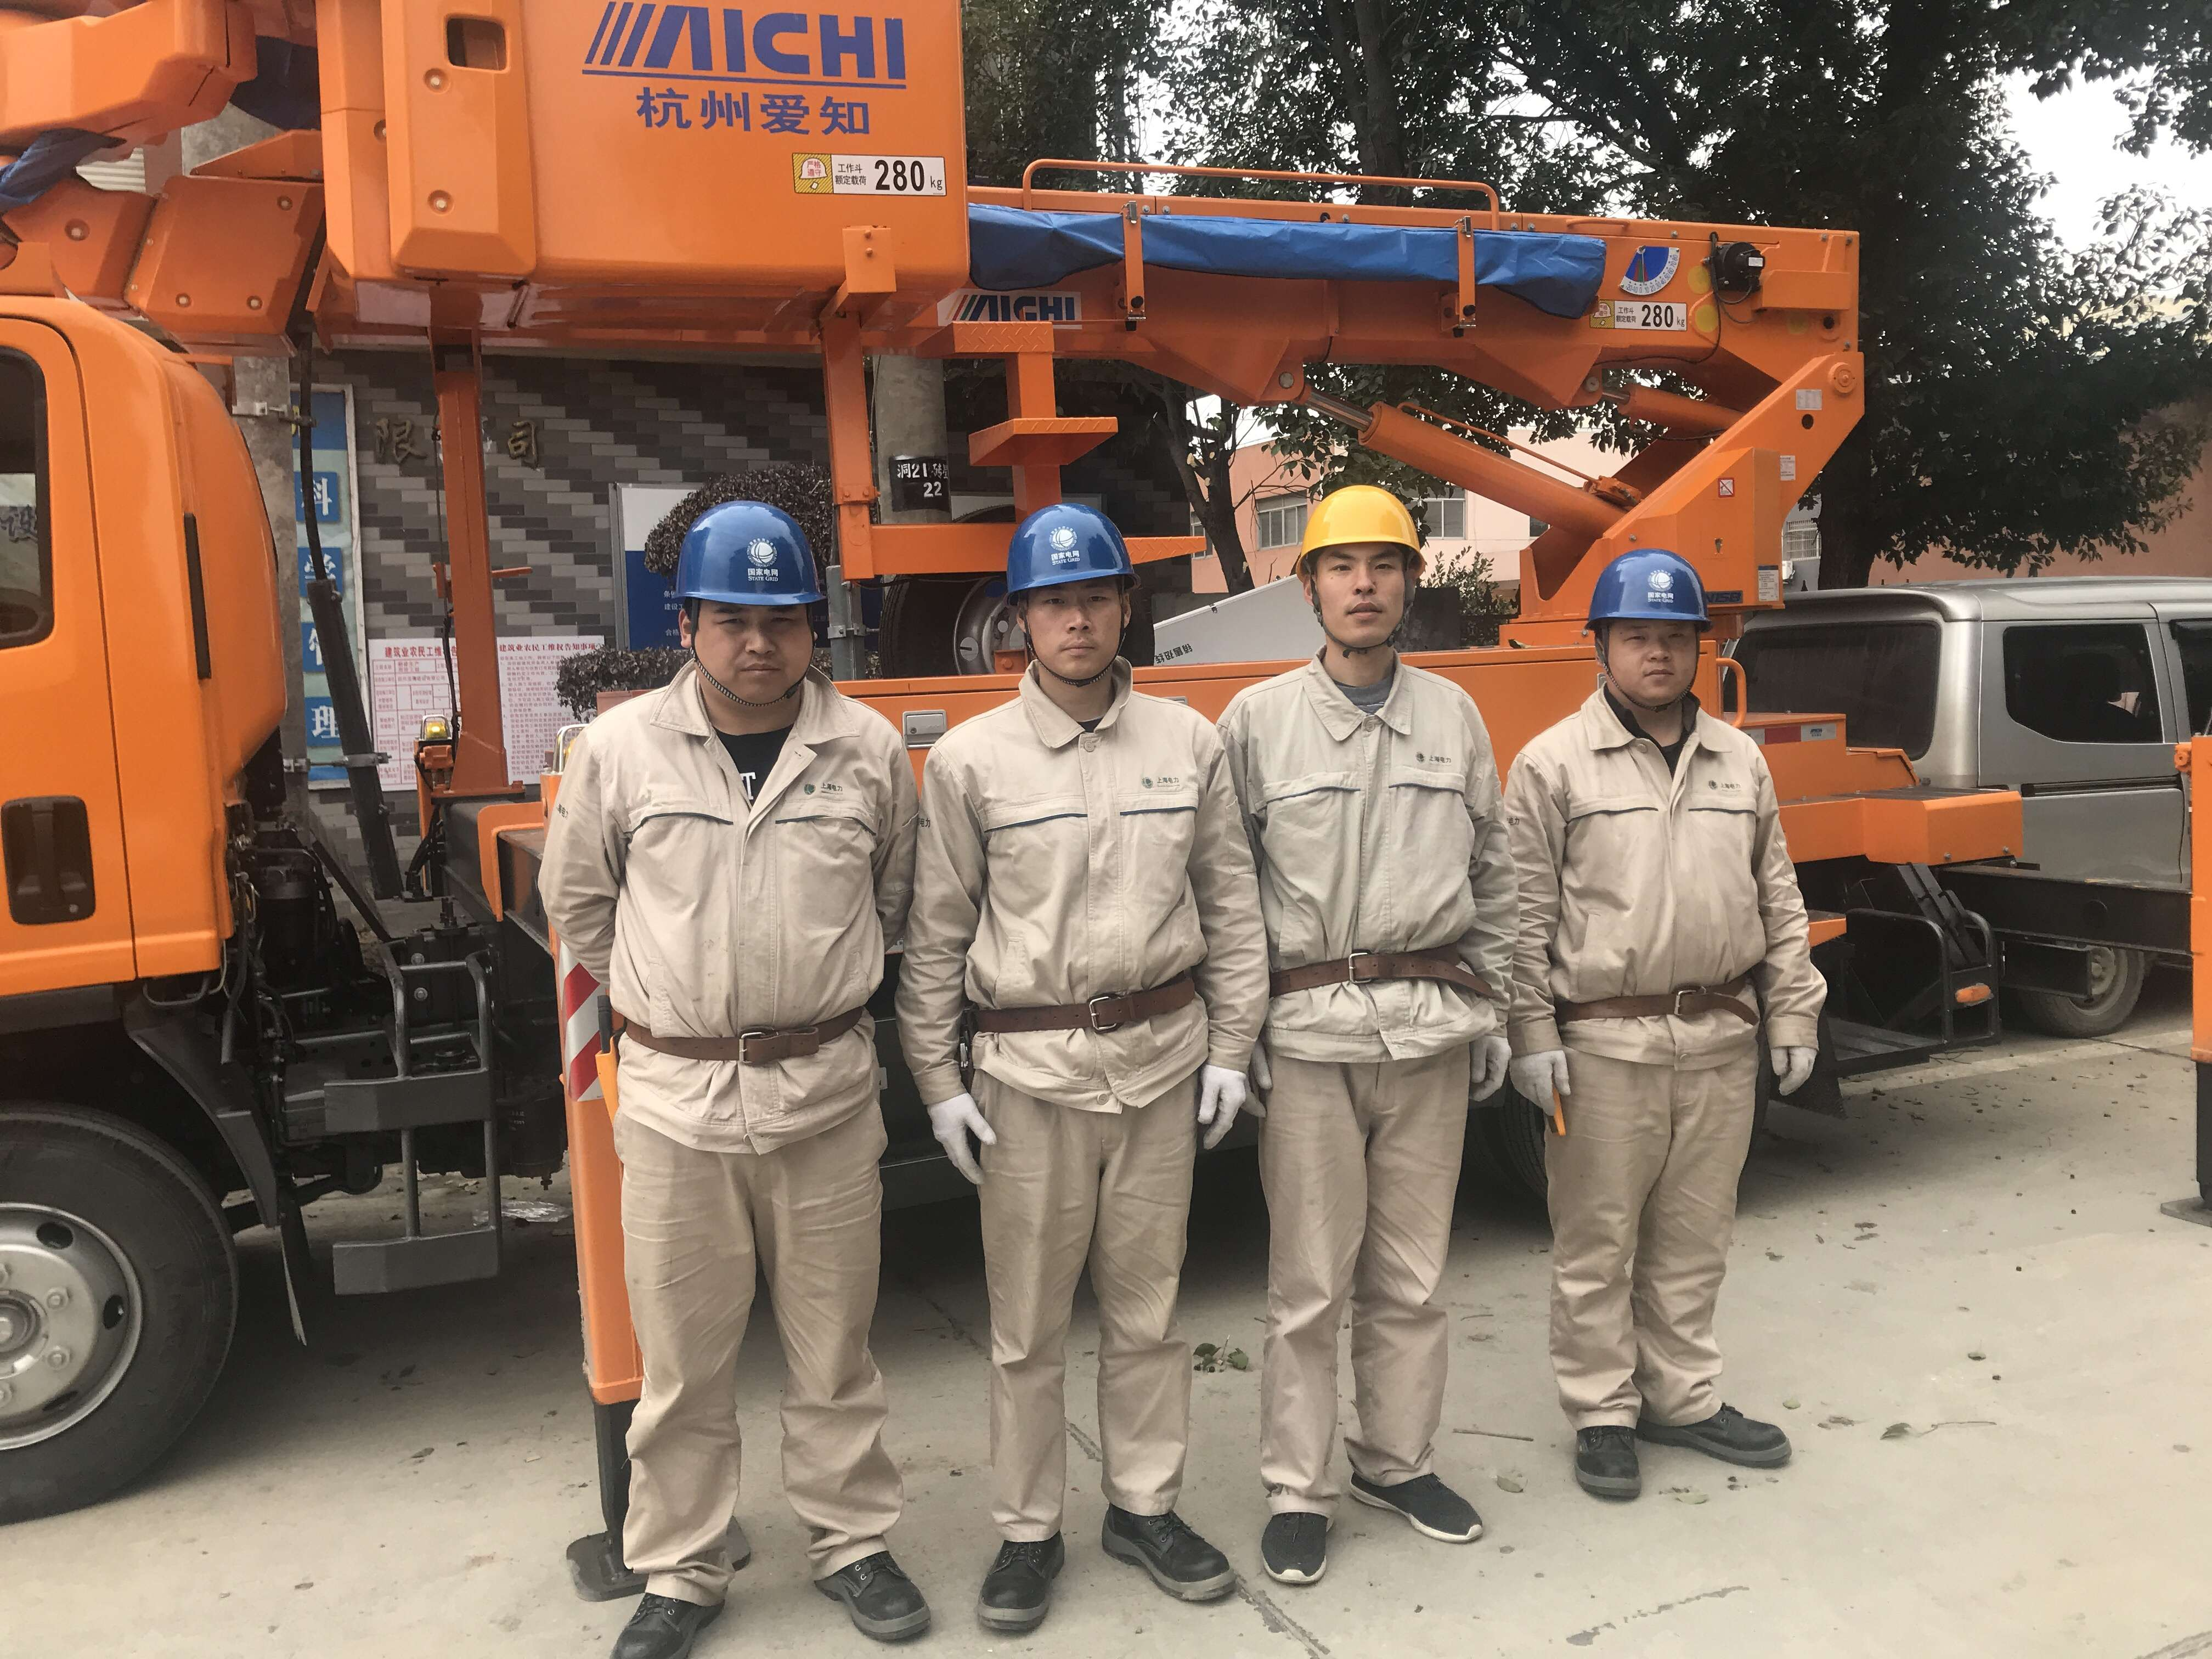helmet: (673, 502, 827, 705), (1003, 496, 1138, 684), (1582, 545, 1719, 704), (1287, 487, 1424, 646)
person: (540, 505, 949, 1659), (913, 498, 1267, 1648), (1213, 474, 1527, 1592), (1497, 550, 1828, 1510)
